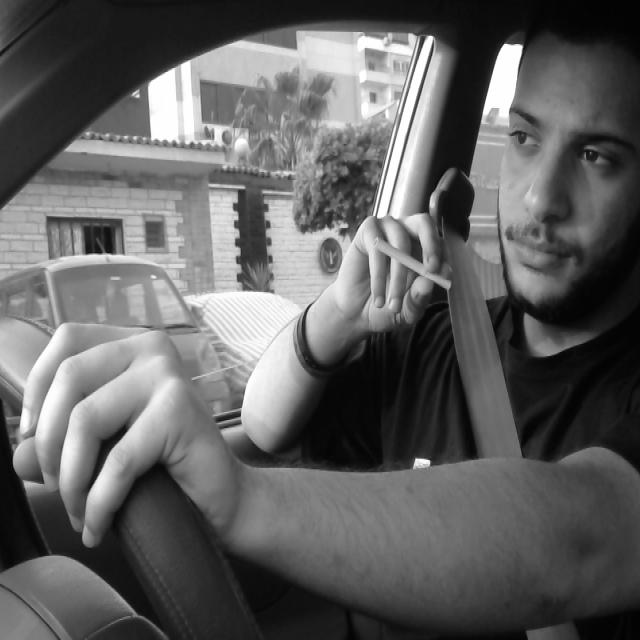smoking: (371, 227, 452, 293)
